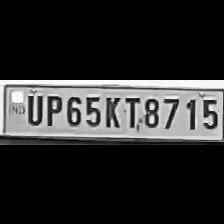1: (180, 94, 198, 130)
5: (198, 93, 218, 129), (82, 92, 102, 126)
6: (62, 92, 82, 126)
7: (160, 93, 178, 129)
8: (140, 94, 160, 128)
K: (101, 92, 121, 128)
P: (42, 92, 62, 126)
T: (122, 92, 140, 128)
U: (23, 90, 43, 126)
